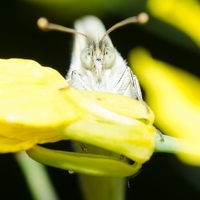insect: (28, 14, 155, 176), (37, 13, 148, 105)
